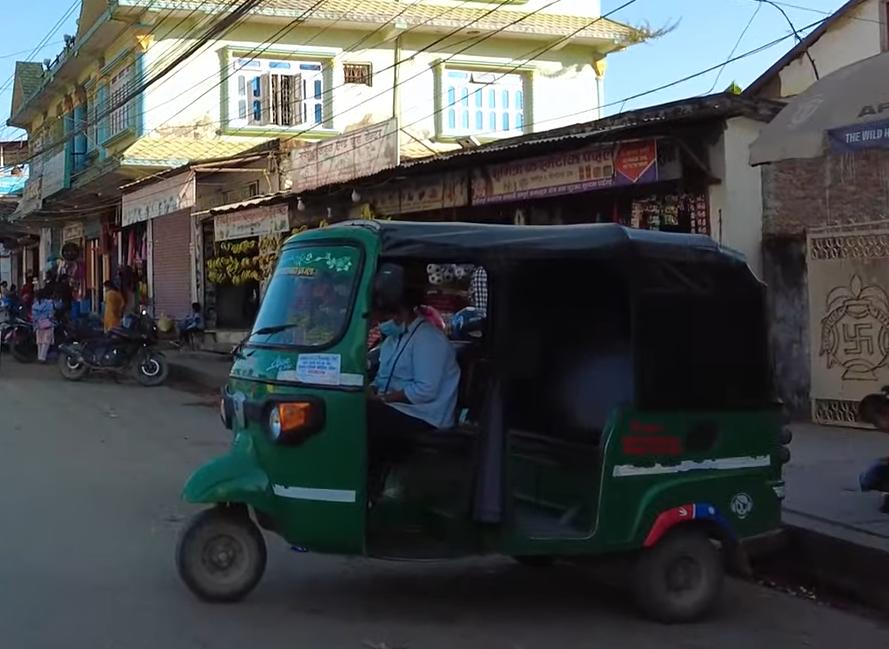auto_rickshaw: (168, 214, 796, 616)
bike: (55, 304, 167, 385)
